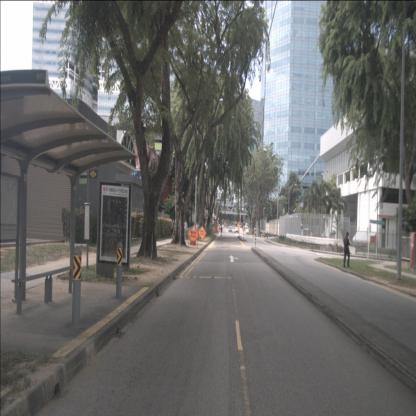human-pedestrian-adult: (343, 232, 350, 268), (184, 219, 188, 238), (171, 218, 174, 238), (220, 226, 223, 236)
vehicle-car: (234, 226, 239, 234), (244, 222, 248, 230), (228, 226, 232, 233)
